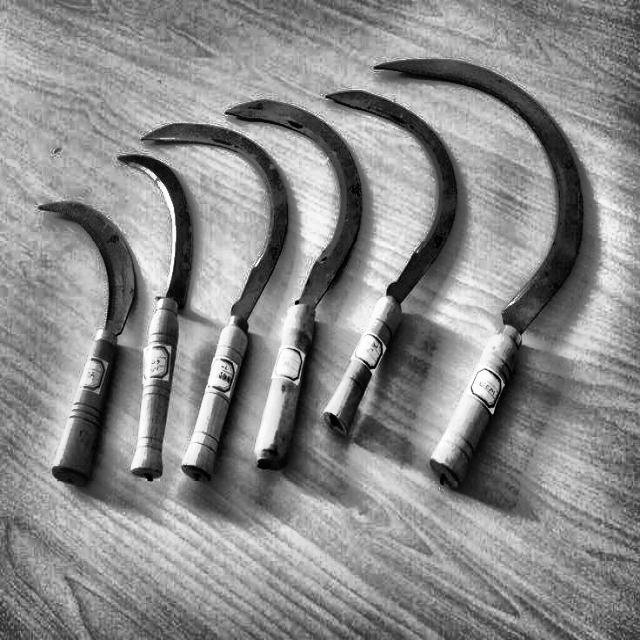celurit: (365, 44, 592, 492)
